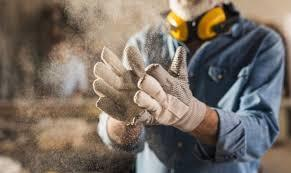Gloves: (145, 47, 200, 137), (94, 44, 142, 133)
